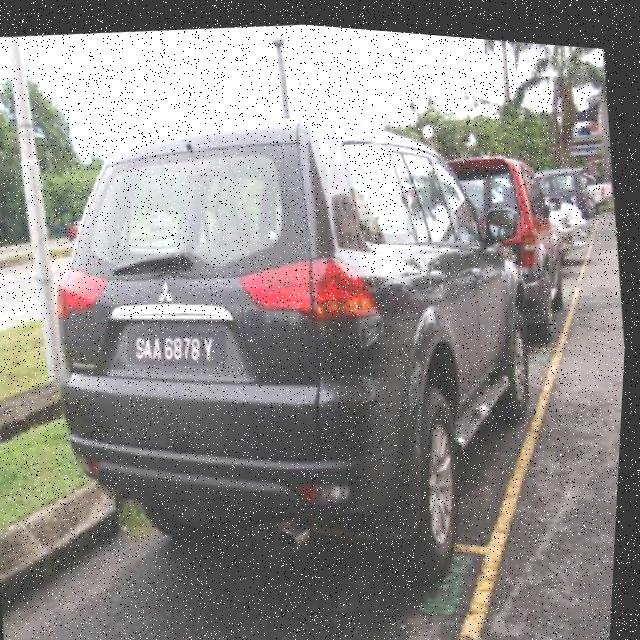license_plate: (127, 316, 232, 375), (502, 230, 526, 256)
